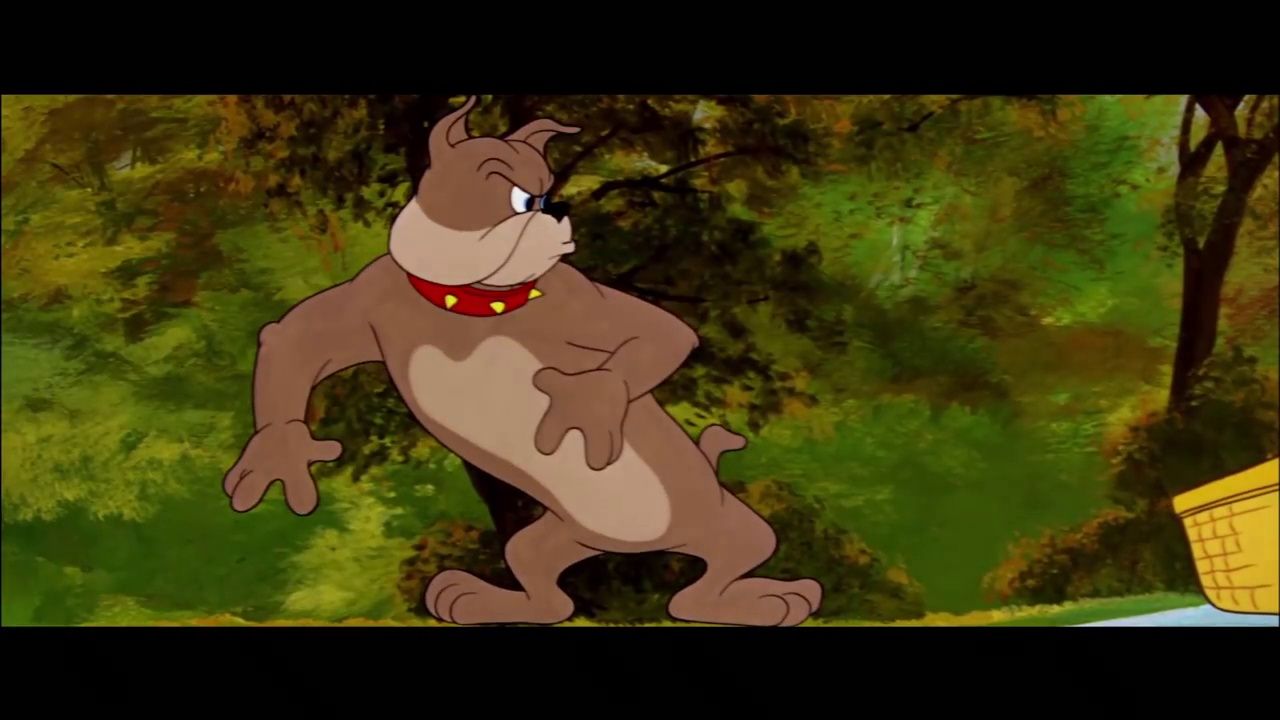spike: (377, 93, 589, 320)
